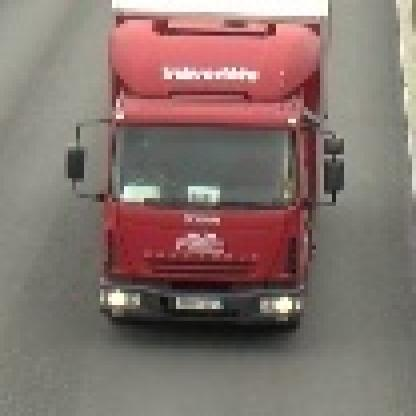truck: (65, 1, 341, 334)
